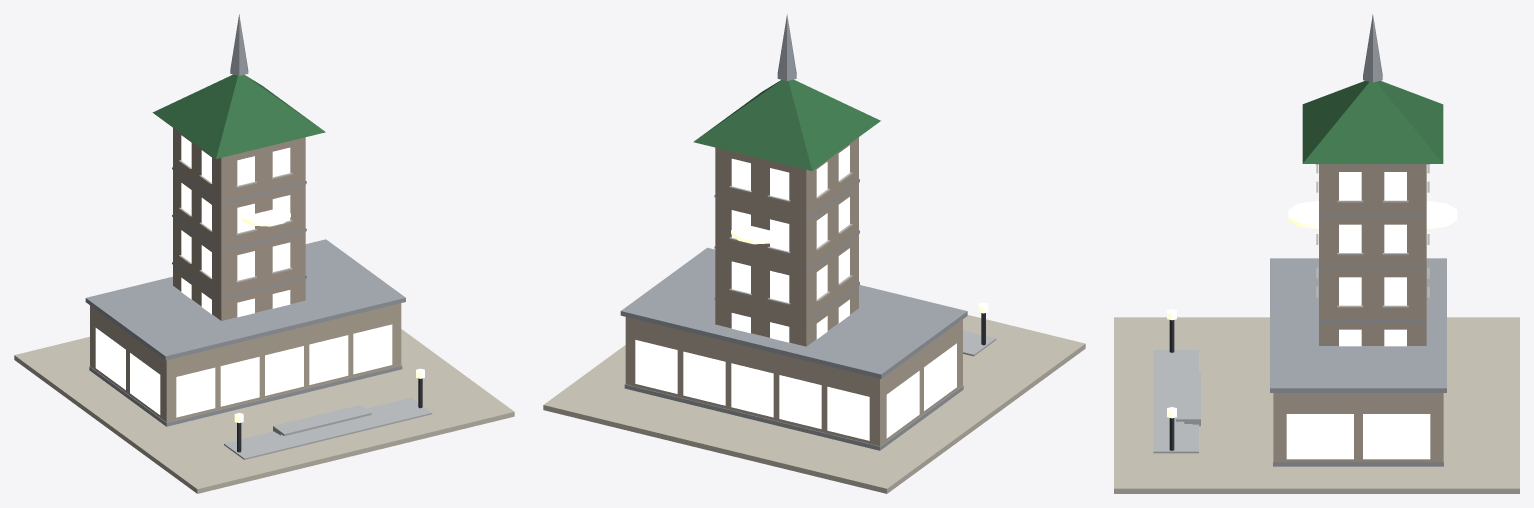
Rendered from landmark_clocktower.glb.
The picture shows the model from 3 angles, left to right: view 1: azimuth 30°, elevation 25°; view 2: azimuth 150°, elevation 25°; view 3: azimuth 270°, elevation 25°; orthographic projection. The views are drawn at different scales.
Visible parts, largest first — view 1: landmark_clocktower; view 2: landmark_clocktower; view 3: landmark_clocktower.
Boxes of the visible parts, x1,y1,x2,y2 form: landmark_clocktower: [14, 14, 514, 493]; landmark_clocktower: [543, 14, 1085, 493]; landmark_clocktower: [1114, 14, 1519, 493].
Bounding box in the file's own units: 1.96 × 2.1 × 1.96.
